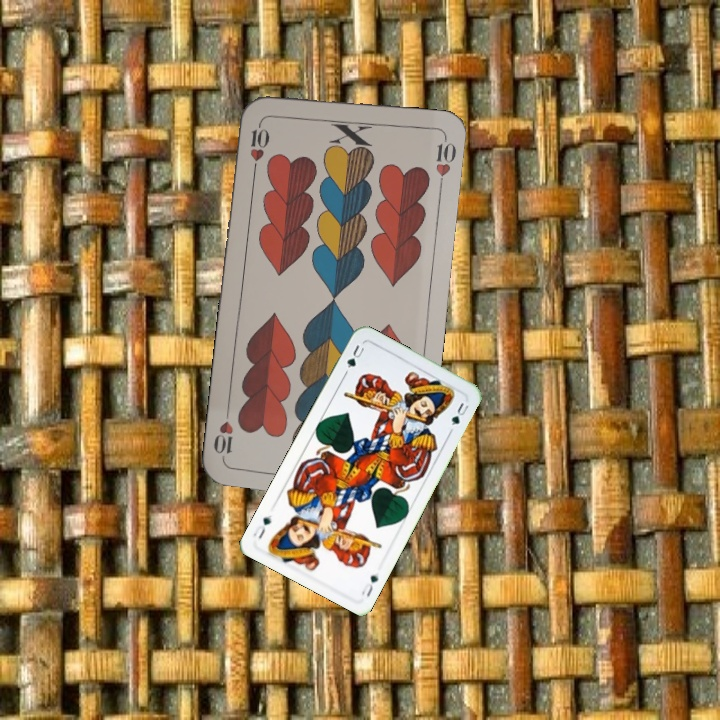GU: (341, 341, 367, 377), (357, 571, 381, 599)
H10: (246, 115, 271, 174)
